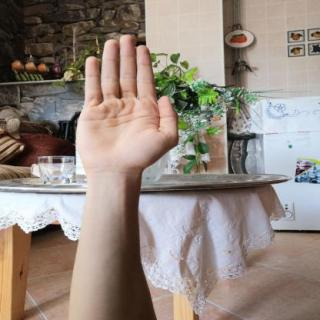SEEN: (65, 28, 188, 181)
